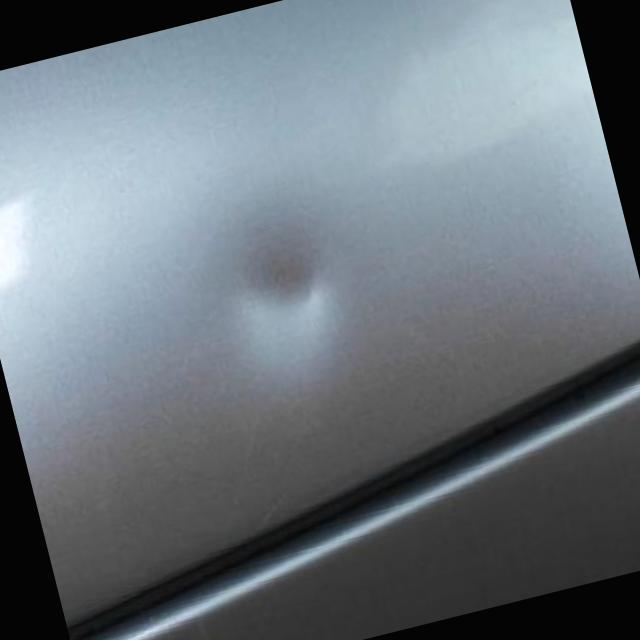dent: (212, 235, 343, 338)
